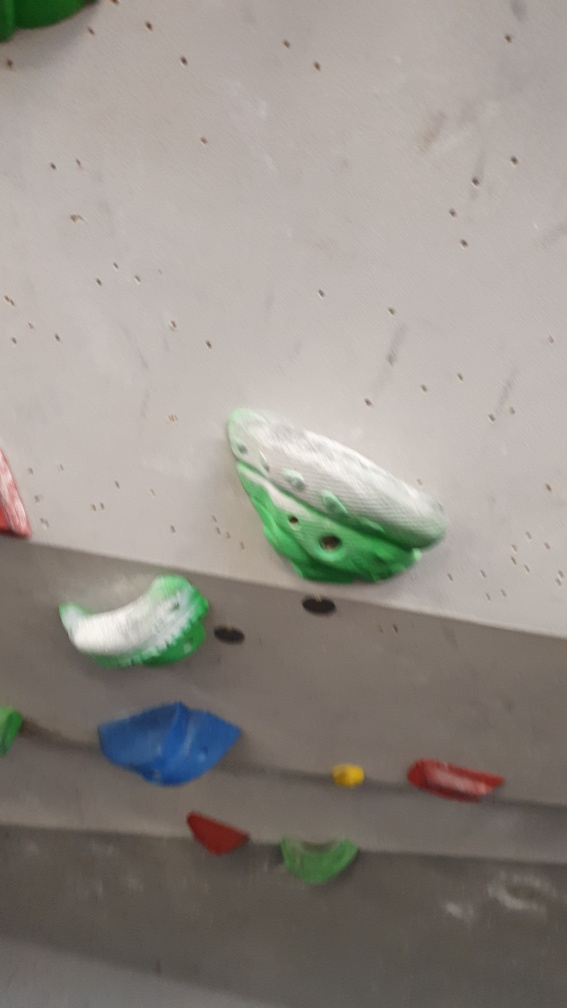Crimp: (403, 750, 505, 804)
Hand Start: (294, 588, 340, 622), (211, 620, 253, 647)
Jug: (218, 398, 447, 592), (51, 572, 210, 674), (277, 829, 368, 889)
